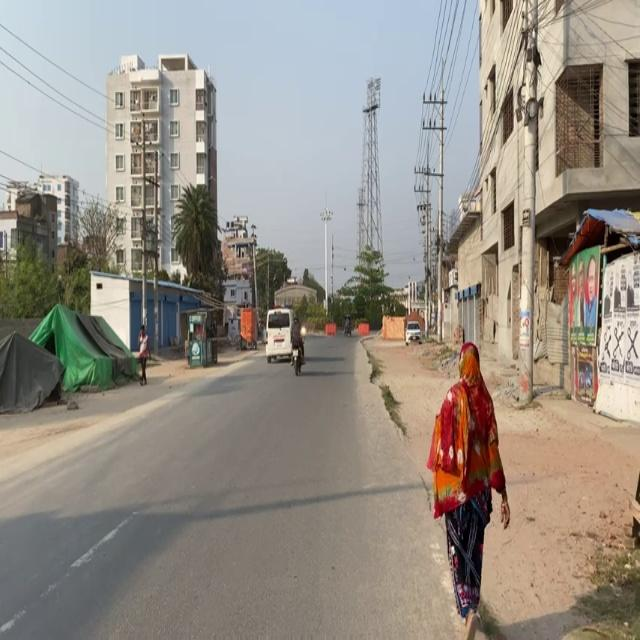Construction-barrier: (358, 332, 479, 638), (359, 333, 408, 438), (462, 609, 479, 639)
Garbage: (181, 308, 217, 368), (238, 307, 257, 349)
Garbage-bin: (426, 341, 510, 628), (290, 316, 305, 365), (137, 325, 149, 385), (343, 315, 351, 336)
Light-pole: (516, 1, 539, 404)
Pothole: (361, 332, 639, 638)
Traffic-cone: (264, 307, 304, 363), (404, 321, 422, 345)
